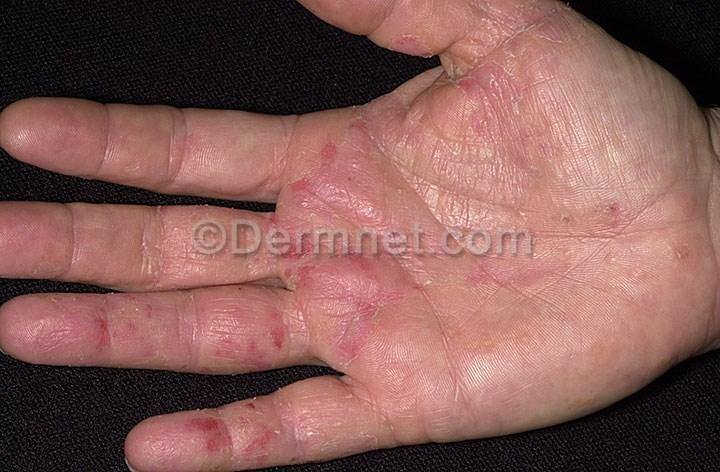Eczema: (190, 419, 278, 456), (286, 141, 326, 208), (285, 235, 315, 288), (87, 310, 116, 361), (261, 323, 314, 350), (598, 203, 643, 229)
